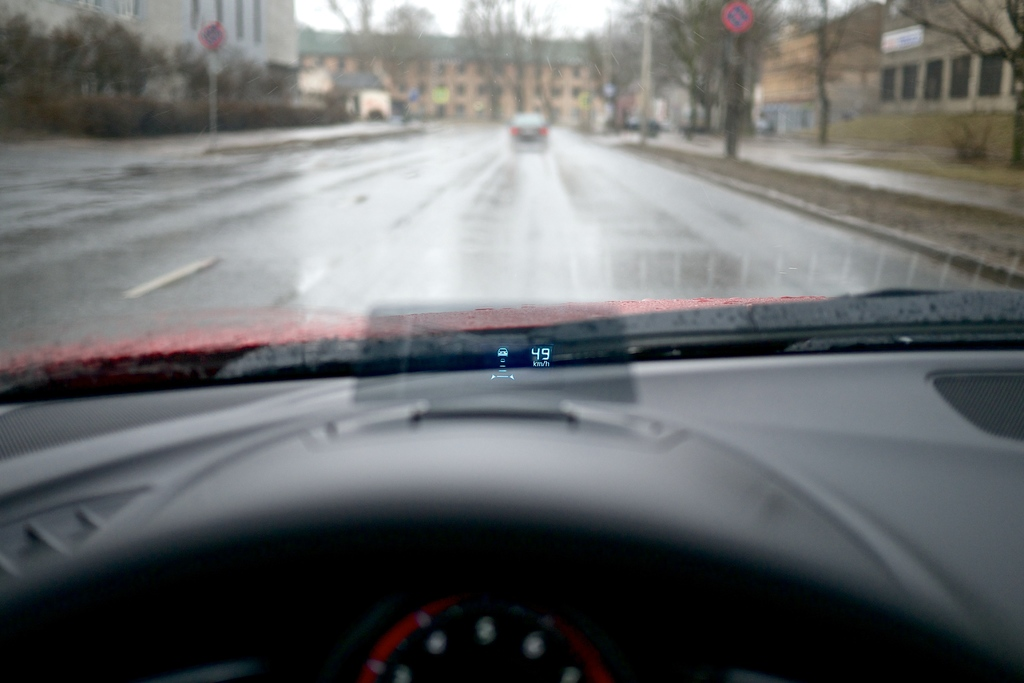Car: (0, 0, 1023, 682), (509, 111, 548, 152)
